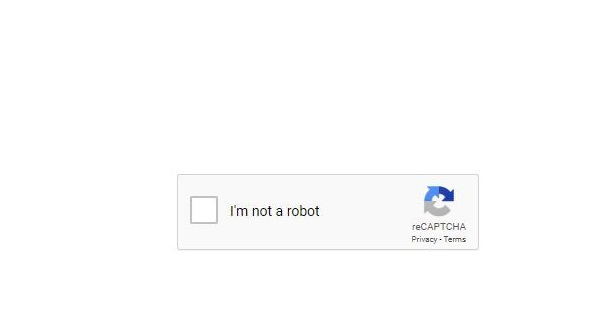captcha: (190, 196, 323, 223)
